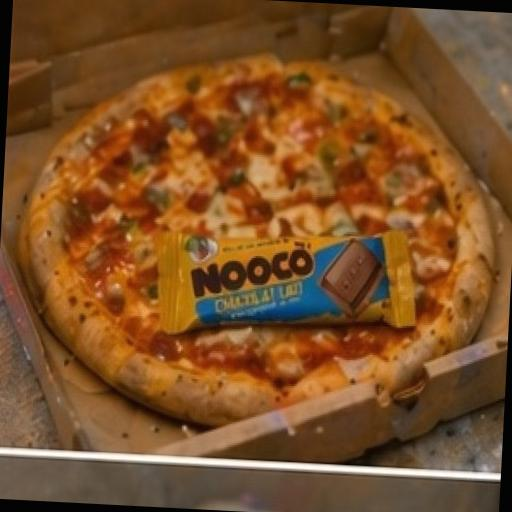biscuit-detection: (136, 203, 439, 385)
